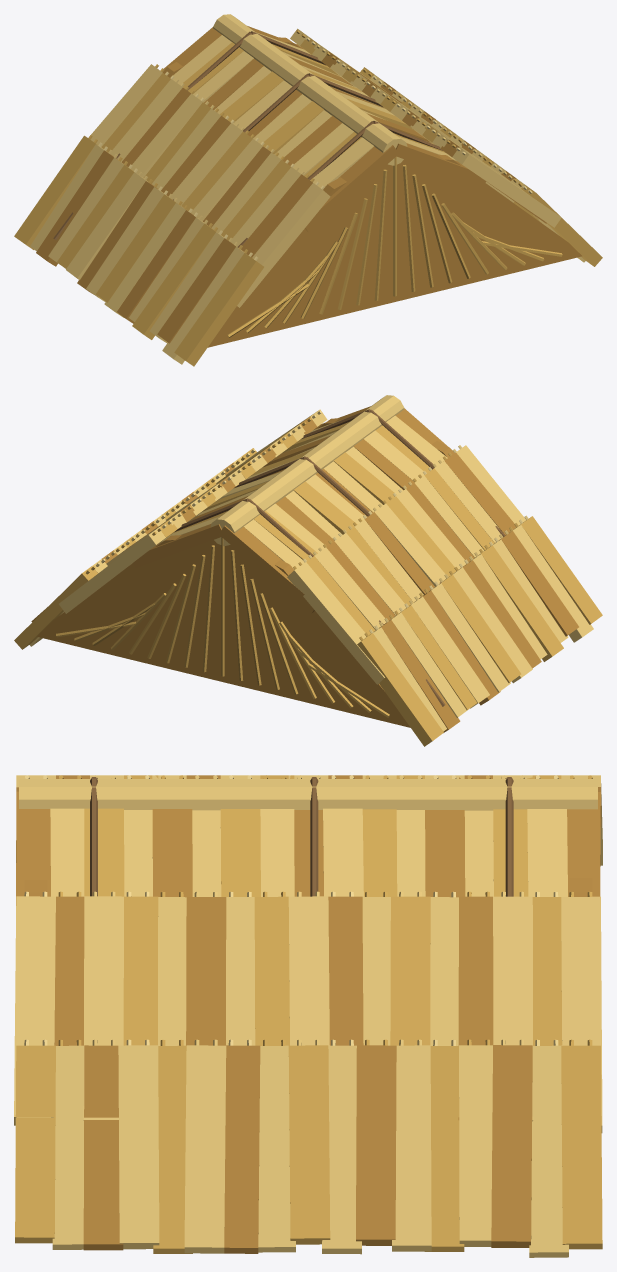
The model's file is straw_roof.glb.
3 views of the same model, one above another, from view 1: azimuth 30°, elevation 25°; view 2: azimuth 150°, elevation 25°; view 3: azimuth 270°, elevation 25° (orthographic). The views are drawn at different scales.
Parts seen in each view (by area): view 1: straw_roof; view 2: straw_roof; view 3: straw_roof.
Boxes of the visible parts, x1=… form: straw_roof: x1=14, y1=14, x2=602, y2=366; straw_roof: x1=14, y1=395, x2=602, y2=746; straw_roof: x1=14, y1=775, x2=602, y2=1257.
Bounding box in the file's own units: 0.7321 × 0.3054 × 0.5188.
